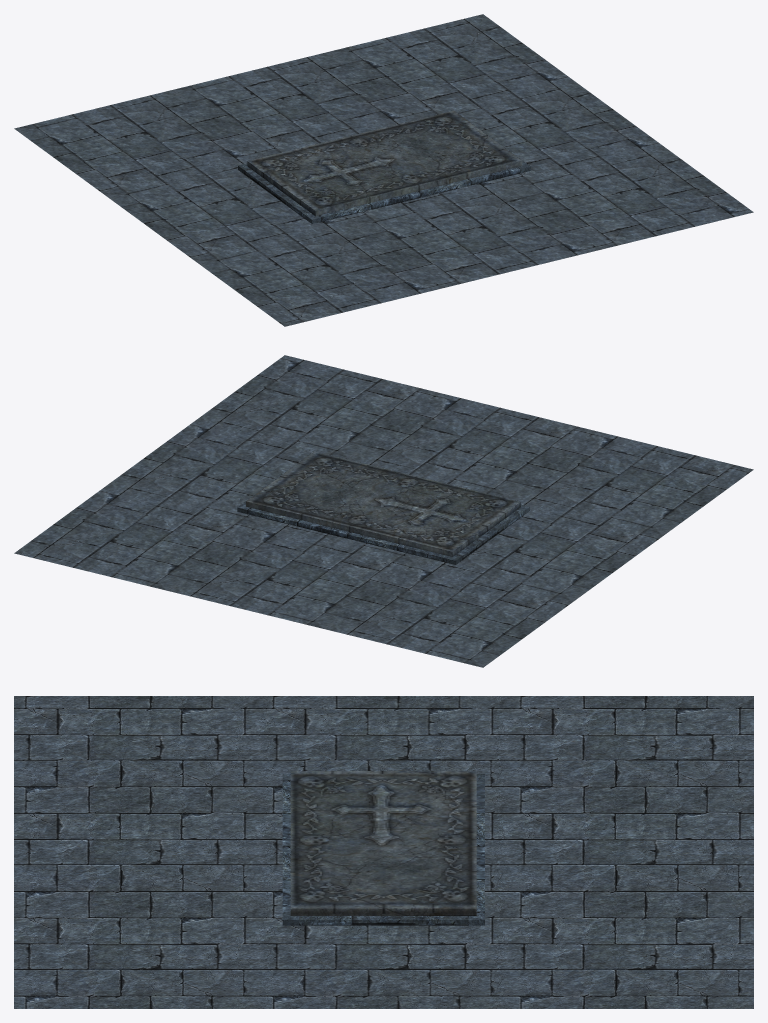
File: Floor2.FBX
3 views of the same model, one above another, from view 1: azimuth 30°, elevation 25°; view 2: azimuth 150°, elevation 25°; view 3: azimuth 270°, elevation 25° (orthographic). The views are drawn at different scales.
Parts seen in each view (by area): view 1: FloorGrave, FloorGrave_part; view 2: FloorGrave, FloorGrave_part; view 3: FloorGrave, FloorGrave_part.
Boxes of the visible parts, left/top/right/bottom form: FloorGrave: left=14, top=14, right=753, bottom=326; FloorGrave_part: left=247, top=110, right=522, bottom=216; FloorGrave: left=14, top=355, right=753, bottom=667; FloorGrave_part: left=246, top=451, right=520, bottom=556; FloorGrave: left=14, top=696, right=753, bottom=1008; FloorGrave_part: left=290, top=771, right=476, bottom=915.
Size of the model in its own units: 91.85 by 10.69 by 91.85.
